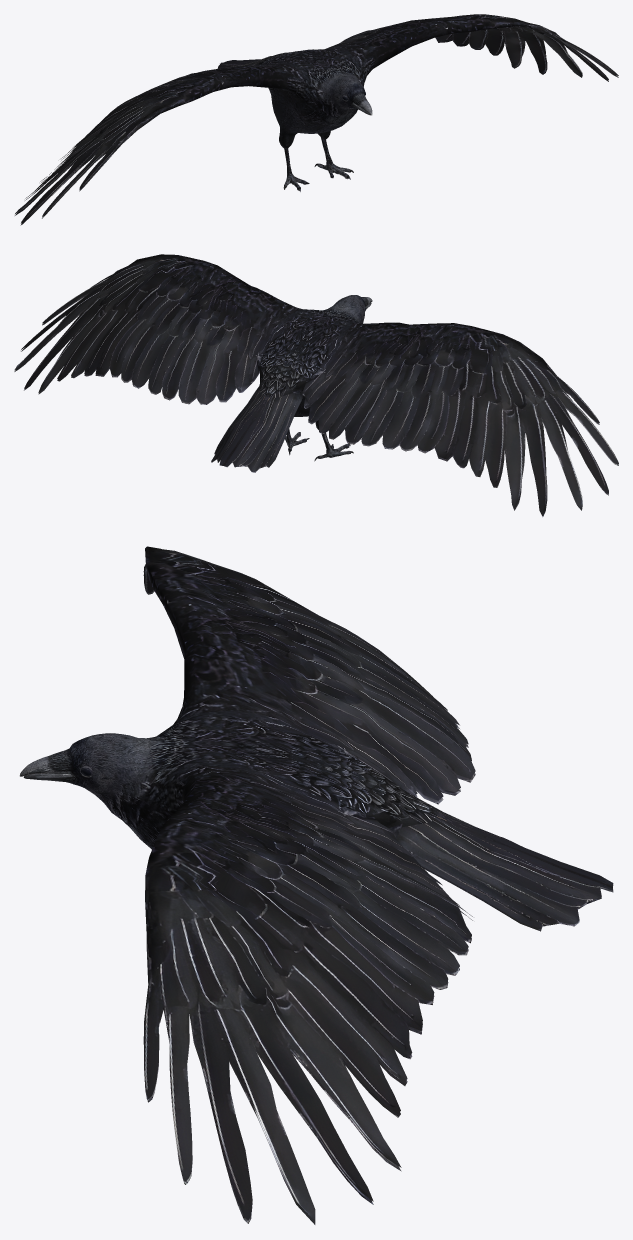
Rendered from crow.glb.
3 views of the same model, one above another, from view 1: azimuth 30°, elevation 25°; view 2: azimuth 150°, elevation 25°; view 3: azimuth 270°, elevation 25° (orthographic). The views are drawn at different scales.
Visible parts, largest first — view 1: sm_1_0_0_0; view 2: sm_1_0_0_0; view 3: sm_1_0_0_0.
Part boxes in pixels (x1,y1,x2,y2): sm_1_0_0_0: (15, 14, 618, 225); sm_1_0_0_0: (14, 254, 618, 516); sm_1_0_0_0: (19, 546, 613, 1224).
Size of the model in its own units: 0.9858 by 0.2273 by 0.4308.
1 material, 1 textured.
